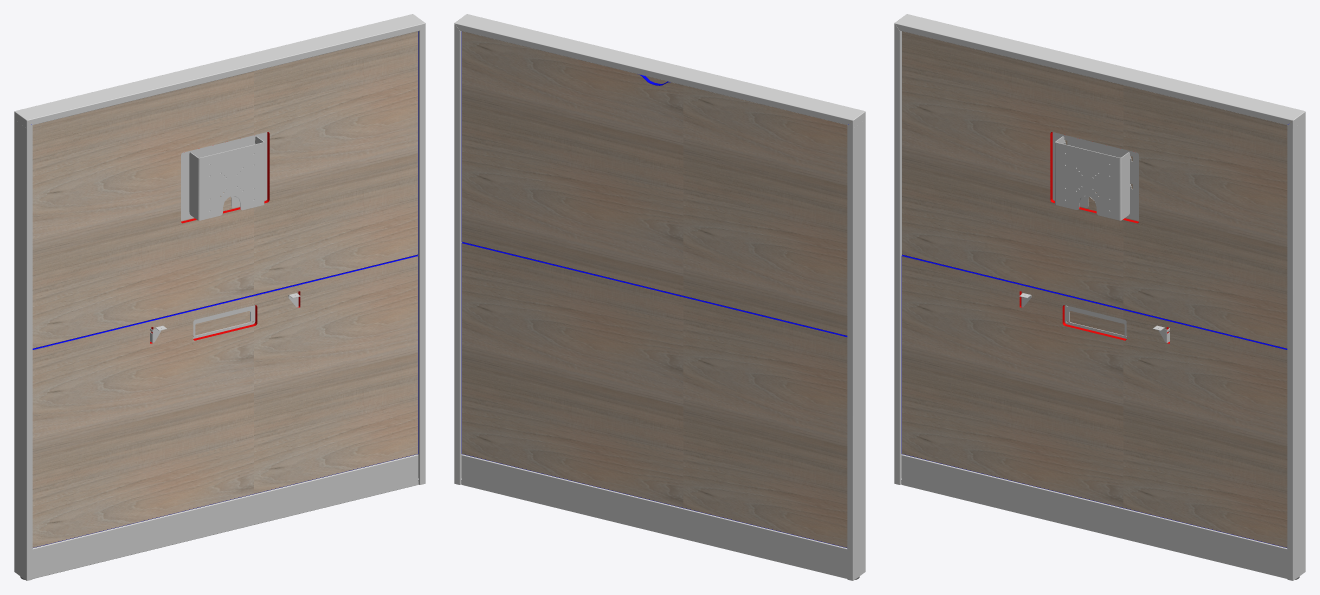
3 renders of one model, left to right at view 1: azimuth 30°, elevation 25°; view 2: azimuth 150°, elevation 25°; view 3: azimuth 330°, elevation 25°, orthographic.
Parts seen in each view (by area): view 1: 4 (×2), 6, 20, 19, 23, 15, 14, 24, 5 (×2), 22; view 2: 5, 18, 19, 23, 14, 6; view 3: 4 (×2), 6, 20, 14, 23, 15, 19, 24, 5, 22.
Boxes of the visible parts, box(x1,y1,x2,y2) form: 4 (×2): box(32, 31, 418, 547); 6: box(32, 256, 417, 547); 20: box(32, 454, 418, 578); 19: box(14, 119, 32, 580); 23: box(14, 14, 425, 128); 15: box(189, 136, 264, 220); 14: box(418, 31, 425, 484); 24: box(181, 132, 267, 220); 5 (×2): box(28, 31, 418, 348); 22: box(193, 305, 255, 338); 5: box(462, 31, 847, 547); 18: box(461, 454, 847, 578); 19: box(847, 119, 865, 580); 23: box(454, 14, 865, 128); 14: box(454, 31, 461, 484); 6: box(461, 31, 848, 547); 4 (×2): box(901, 31, 1287, 547); 6: box(902, 256, 1287, 547); 20: box(901, 454, 1287, 578); 14: box(1287, 119, 1305, 580); 23: box(894, 14, 1305, 128); 15: box(1055, 136, 1130, 220); 19: box(894, 31, 901, 484); 24: box(1052, 132, 1138, 220); 5: box(1021, 121, 1291, 341); 22: box(1064, 305, 1126, 338).
Size of the model in its own units: 1.8 by 2 by 0.1443.
Materials: 5 (1 with a texture image).
